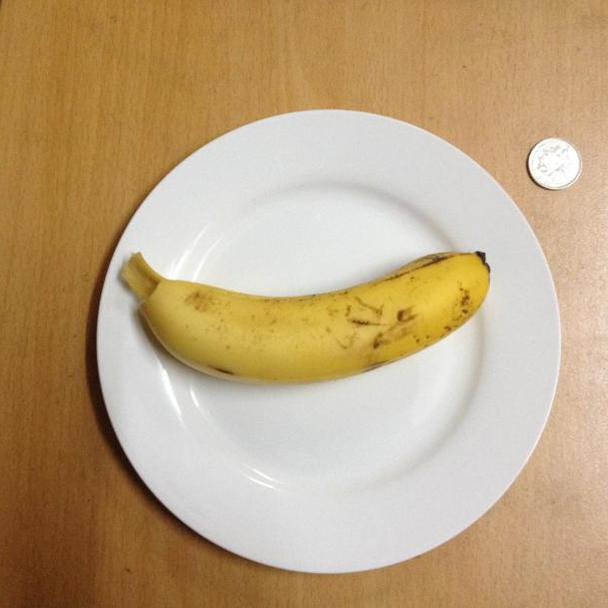banana: (116, 235, 505, 391)
